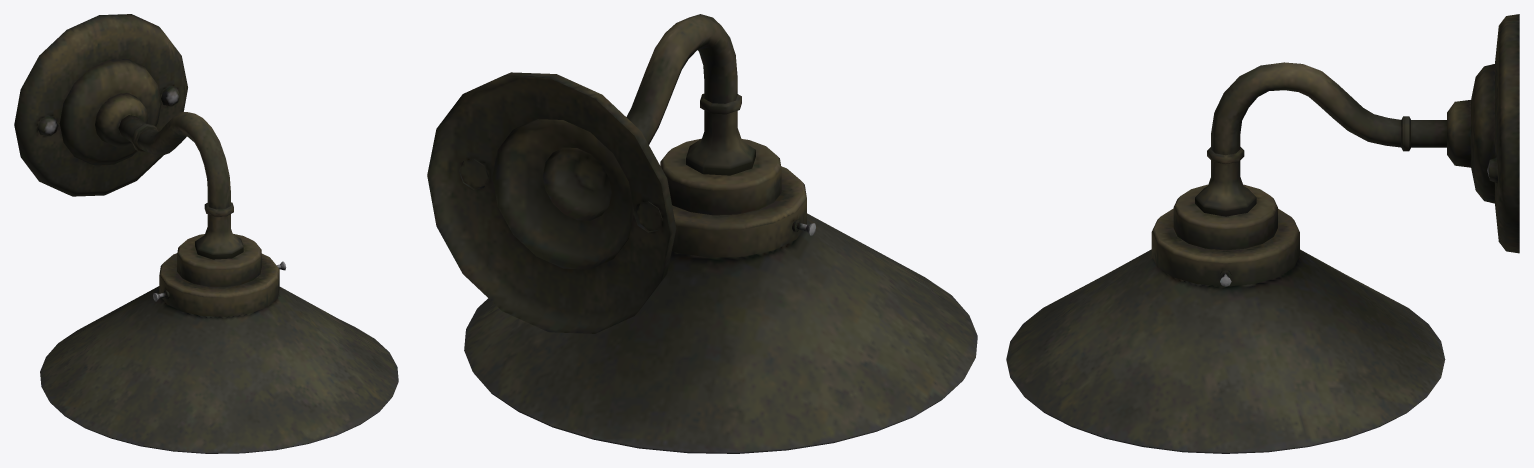
File: sm35_055_lightwall01a.fbx
3 views of the same model, side by side, from view 1: azimuth 30°, elevation 25°; view 2: azimuth 150°, elevation 25°; view 3: azimuth 270°, elevation 25° (orthographic). The views are drawn at different scales.
Visible parts, largest first — view 1: LOD_1_Group_0_Sub_1__sm35_055_LightWall01A_A_Mat; view 2: LOD_1_Group_0_Sub_1__sm35_055_LightWall01A_A_Mat; view 3: LOD_1_Group_0_Sub_1__sm35_055_LightWall01A_A_Mat.
Boxes of the visible parts, bbox=[...] form: LOD_1_Group_0_Sub_1__sm35_055_LightWall01A_A_Mat: bbox=[14, 14, 398, 453]; LOD_1_Group_0_Sub_1__sm35_055_LightWall01A_A_Mat: bbox=[427, 14, 977, 453]; LOD_1_Group_0_Sub_1__sm35_055_LightWall01A_A_Mat: bbox=[1006, 14, 1519, 453].
Bounding box in the file's own units: 0.3732 × 0.3411 × 0.4366.
